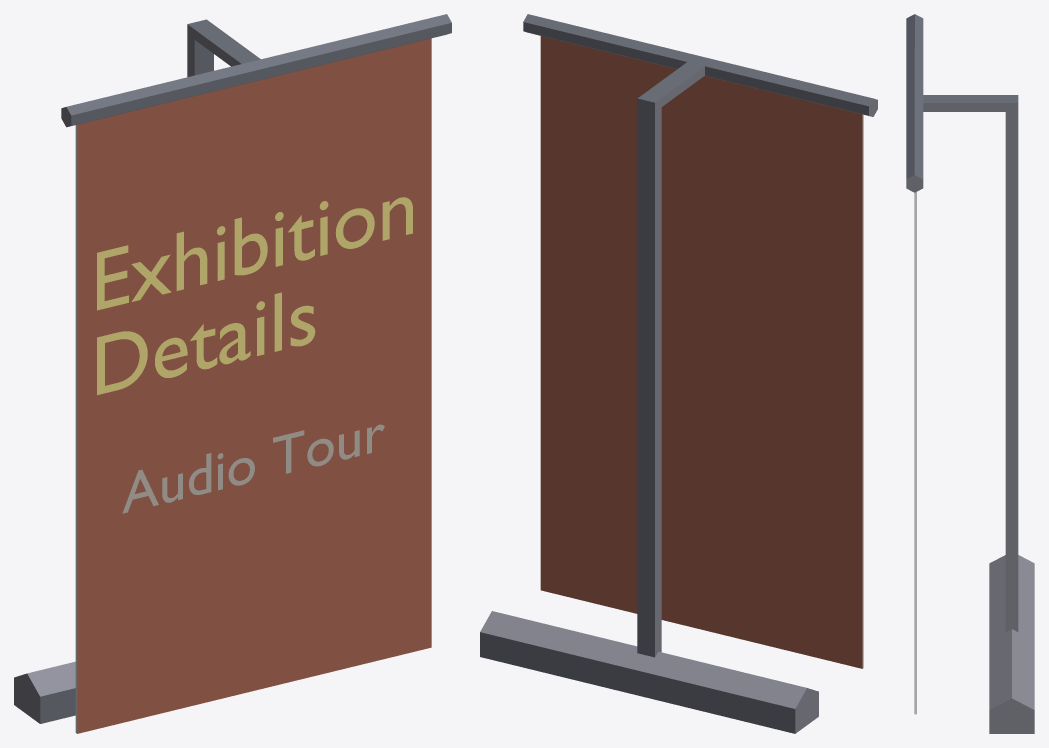
The model's file is banner.glb.
The picture shows the model from 3 angles, left to right: view 1: azimuth 30°, elevation 25°; view 2: azimuth 150°, elevation 25°; view 3: azimuth 270°, elevation 25°; orthographic projection. The views are drawn at different scales.
Parts seen in each view (by area): view 1: Banner, Text, Text.001; view 2: Banner; view 3: Banner.
Part boxes in pixels (x1,y1,x2,y2): Banner: (14, 14, 451, 733); Text: (97, 197, 412, 395); Text.001: (122, 424, 384, 513); Banner: (480, 14, 877, 733); Banner: (906, 14, 1034, 733).
Size of what is drawn, in the model's own units: 1.75 by 2.87 by 0.5908.
5 materials, 2 textured.
